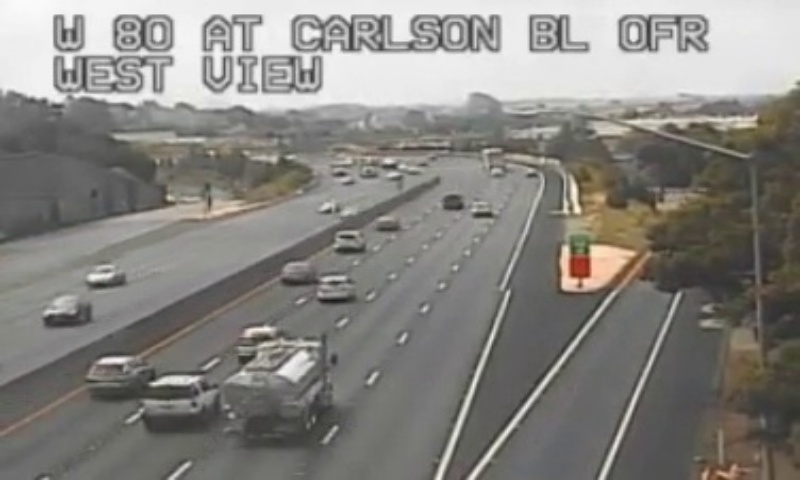car: (140, 373, 221, 420), (85, 355, 151, 395), (238, 324, 282, 357), (317, 276, 355, 299), (280, 261, 314, 283), (334, 230, 363, 250)
tank-truck: (225, 337, 327, 438)
